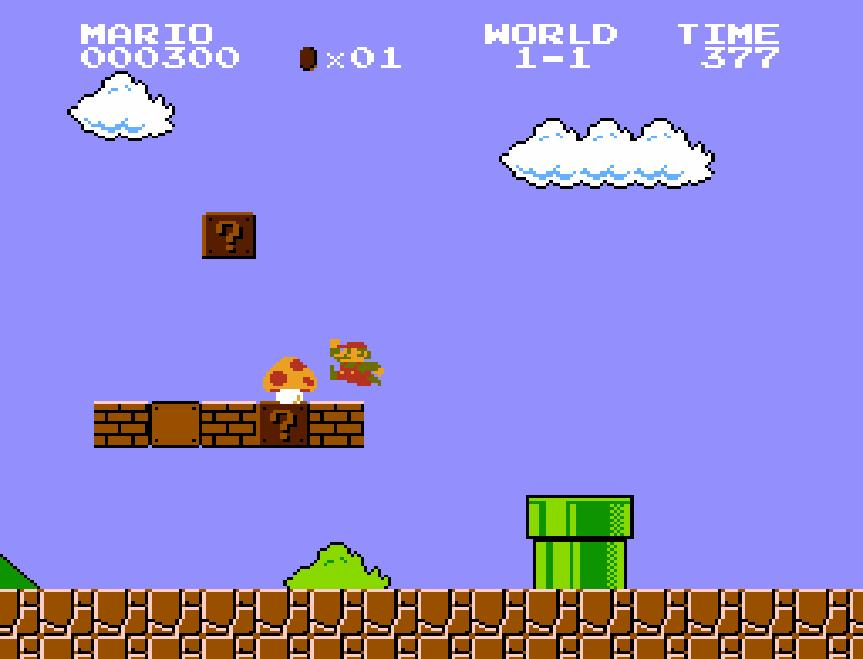little_mario: (328, 337, 386, 387)
